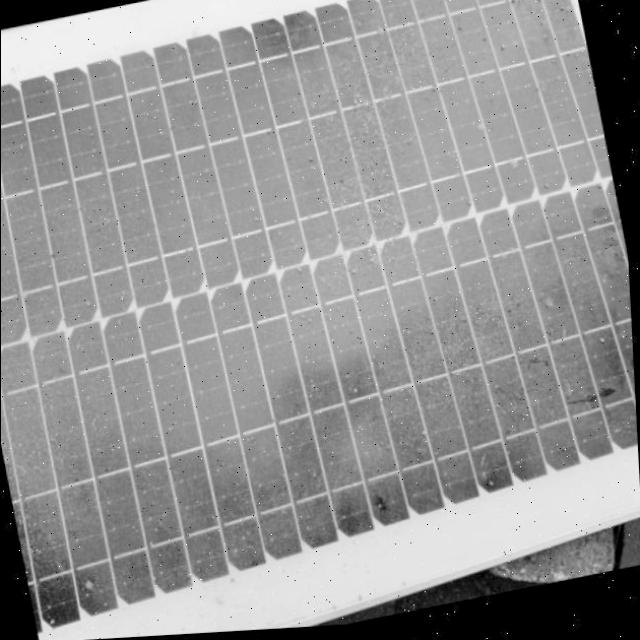Anomaly Solar Panel: (0, 0, 640, 640)
Surface Contaminant: (31, 18, 638, 545)
